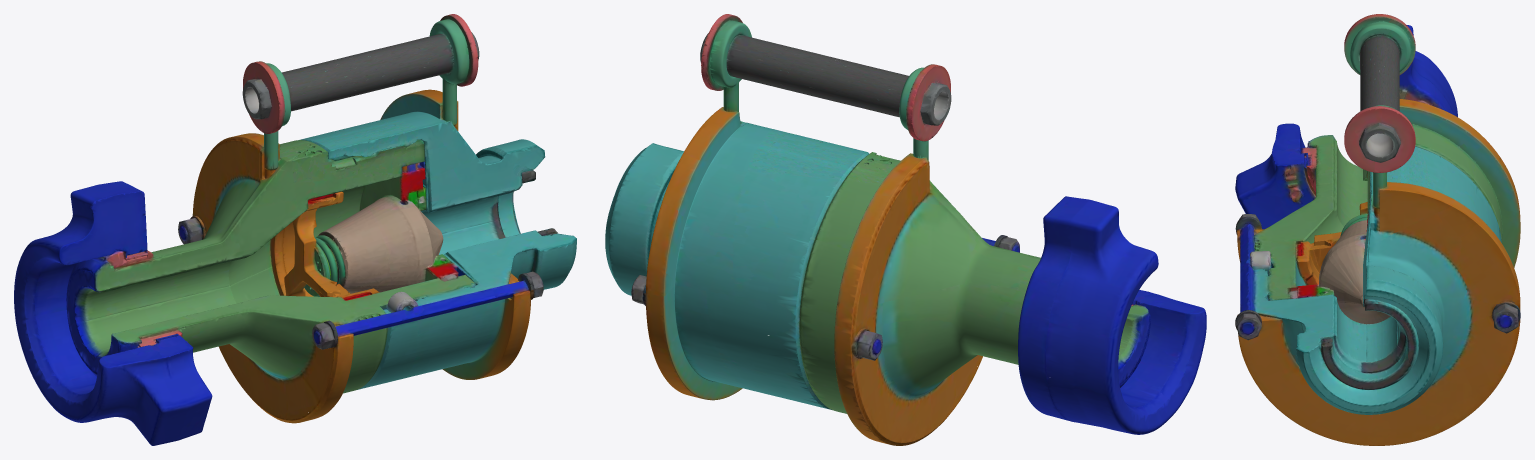
File: valvulaRetencionDardo.glb
3 renders of one model, left to right at view 1: azimuth 30°, elevation 25°; view 2: azimuth 150°, elevation 25°; view 3: azimuth 270°, elevation 25°, orthographic. The views are drawn at different scales.
Parts seen in each view (by area): view 1: tripo_node_1beb7ace-f13c-466c-bd13-db4461cbc0ae; view 2: tripo_node_1beb7ace-f13c-466c-bd13-db4461cbc0ae; view 3: tripo_node_1beb7ace-f13c-466c-bd13-db4461cbc0ae.
Boxes of the visible parts, x1,y1,x2,y2 form: tripo_node_1beb7ace-f13c-466c-bd13-db4461cbc0ae: (14,14,576,445); tripo_node_1beb7ace-f13c-466c-bd13-db4461cbc0ae: (605,14,1206,445); tripo_node_1beb7ace-f13c-466c-bd13-db4461cbc0ae: (1235,14,1520,445).
Bounding box in the file's own units: 0.9798 × 0.6672 × 0.5097.
1 material, 1 textured.
